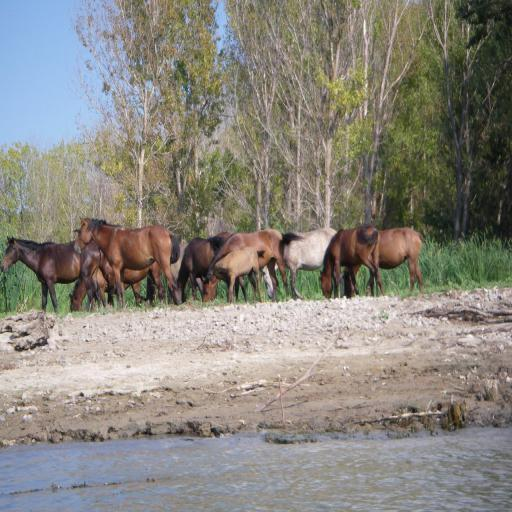horse: (0, 213, 421, 316)
